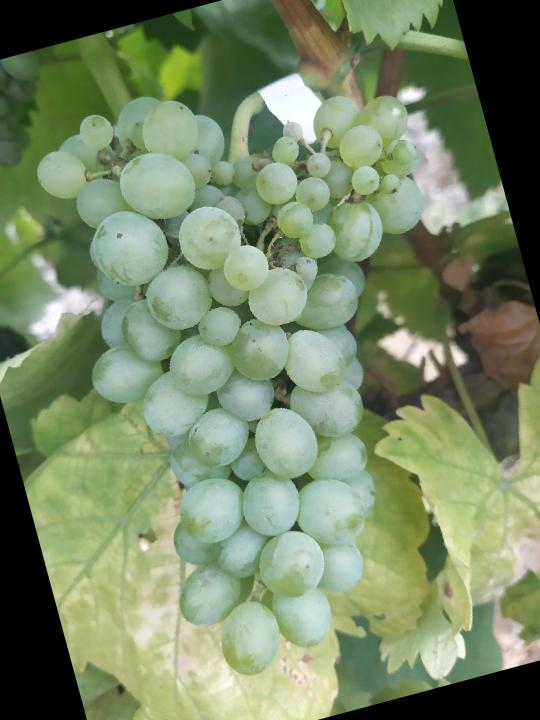grape: (21, 27, 540, 700)
